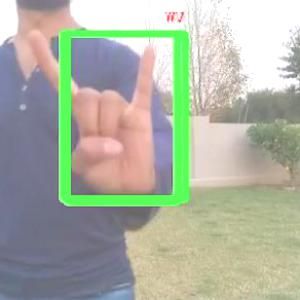takeoff-hand: (28, 26, 161, 197)
